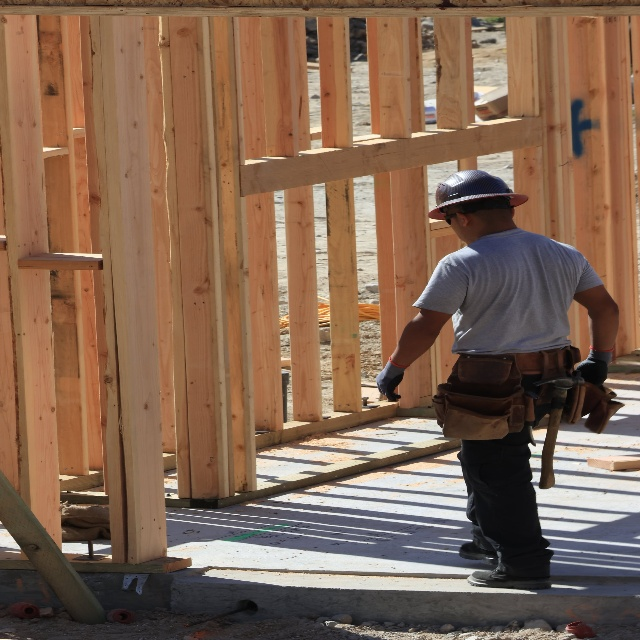Gafas: (443, 212, 457, 226)
Guantes: (375, 355, 410, 403), (575, 345, 613, 386)
